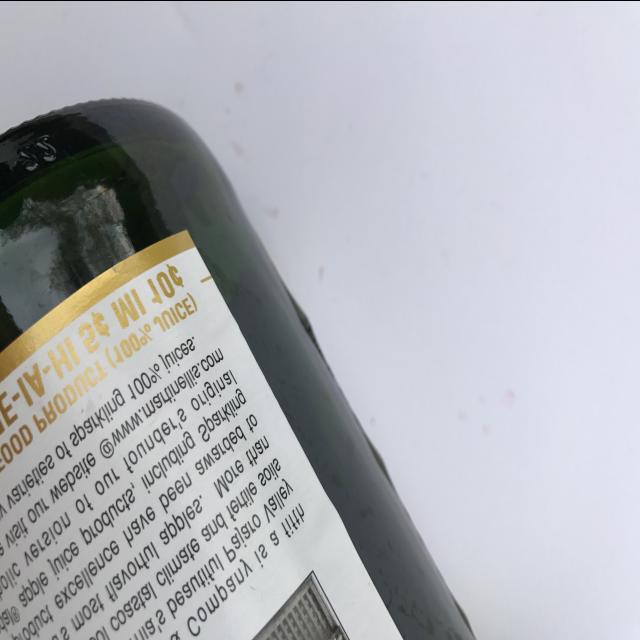glass: (0, 102, 486, 638)
